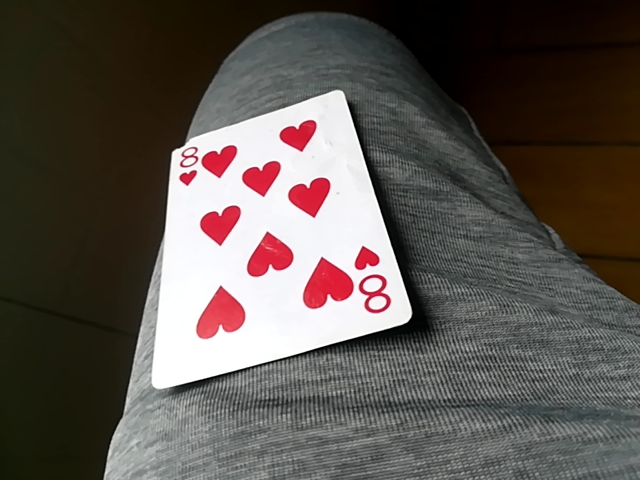hx 8: (144, 91, 417, 391)
